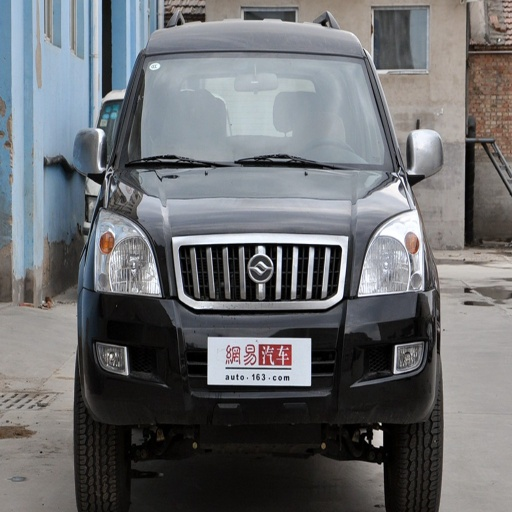back_right_light: (81, 239, 434, 426)
front_bumper: (120, 54, 394, 171)
front_left_door: (356, 213, 433, 297)
front_right_door: (84, 213, 162, 298)
front_right_light: (105, 168, 411, 259)
hood: (406, 129, 443, 182)
left_mirror: (74, 129, 108, 181)
trunk: (74, 378, 128, 511), (384, 407, 443, 511)
